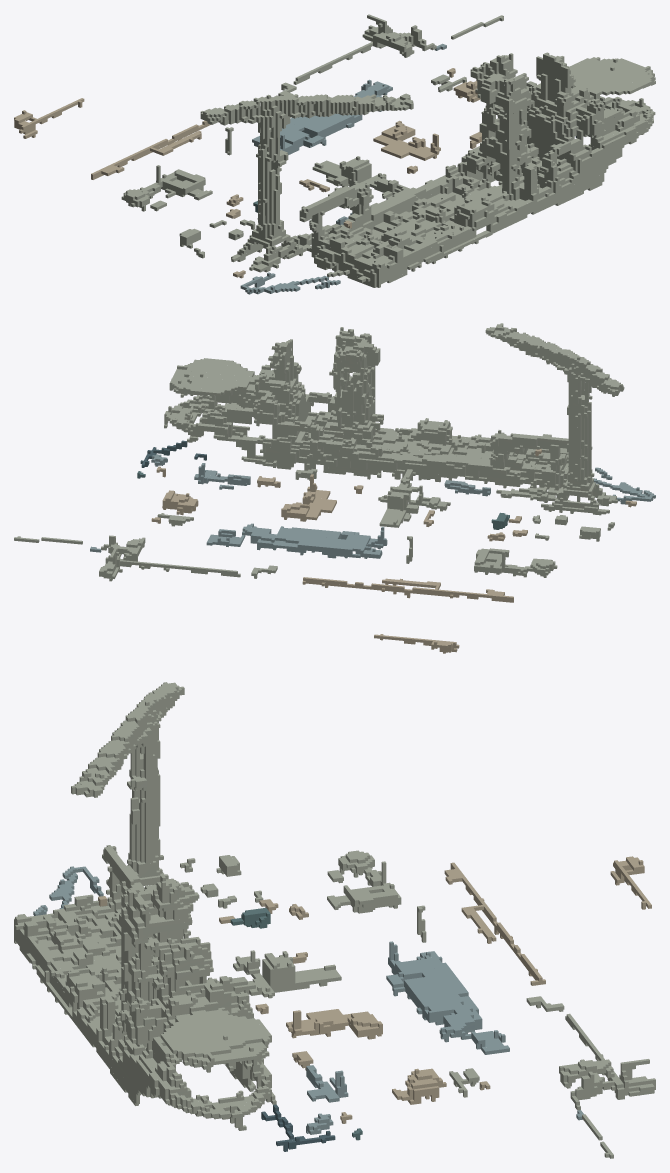
3 views of the same model, one above another, from view 1: azimuth 30°, elevation 25°; view 2: azimuth 150°, elevation 25°; view 3: azimuth 270°, elevation 25° (orthographic). The views are drawn at different scales.
Parts seen in each view (by area): view 1: measured-industrial; view 2: measured-industrial; view 3: measured-industrial.
Part boxes in pixels (box(x1,y1,x2,y2)): measured-industrial: box(14, 14, 655, 294); measured-industrial: box(14, 323, 655, 653); measured-industrial: box(14, 682, 655, 1158).
Bounding box in the file's own units: 184 × 61.98 × 172.
